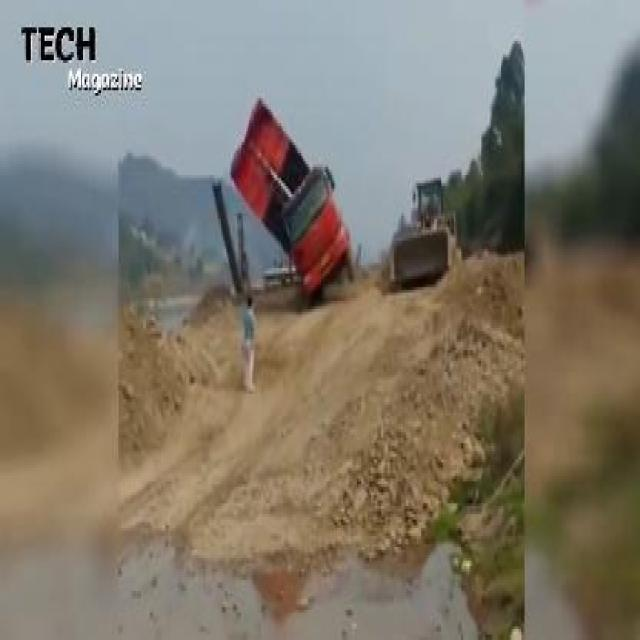accident: (220, 93, 352, 295)
